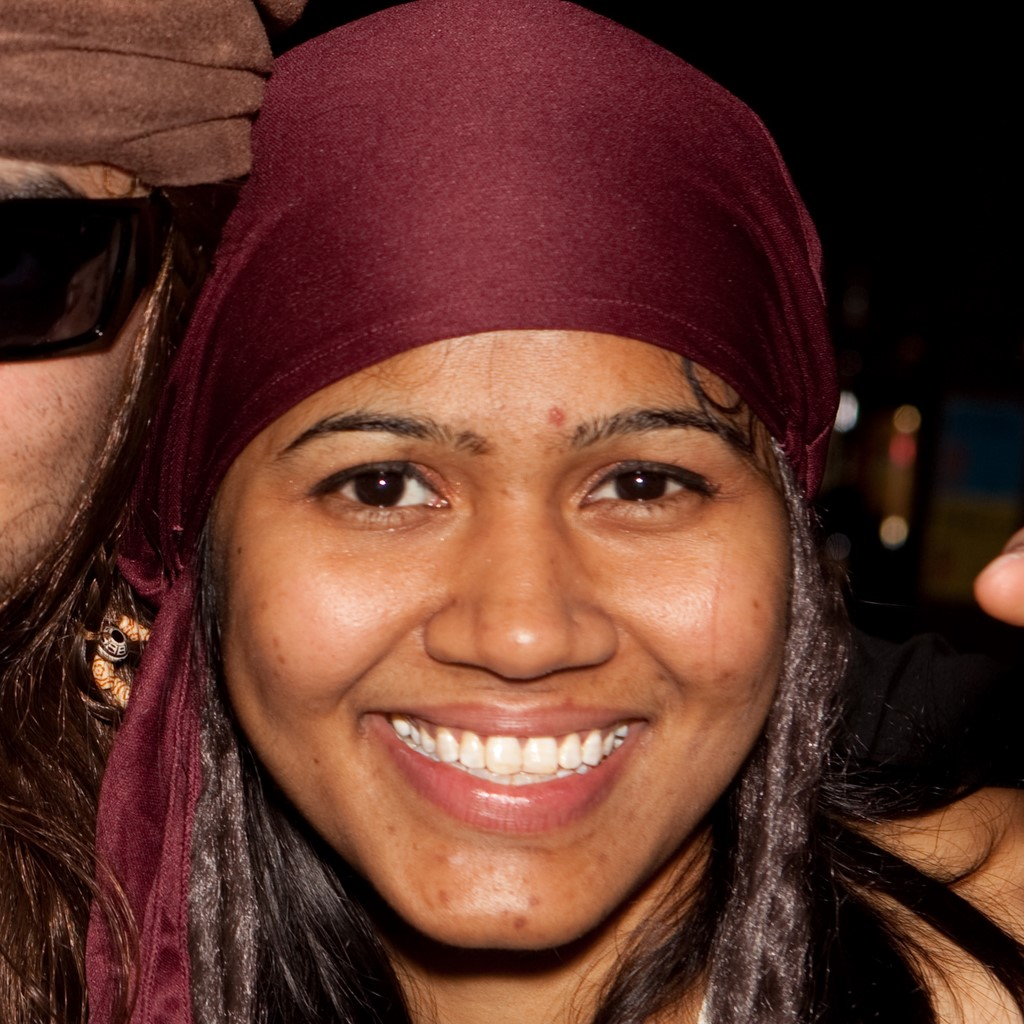sin_mascara: (192, 93, 819, 979)
